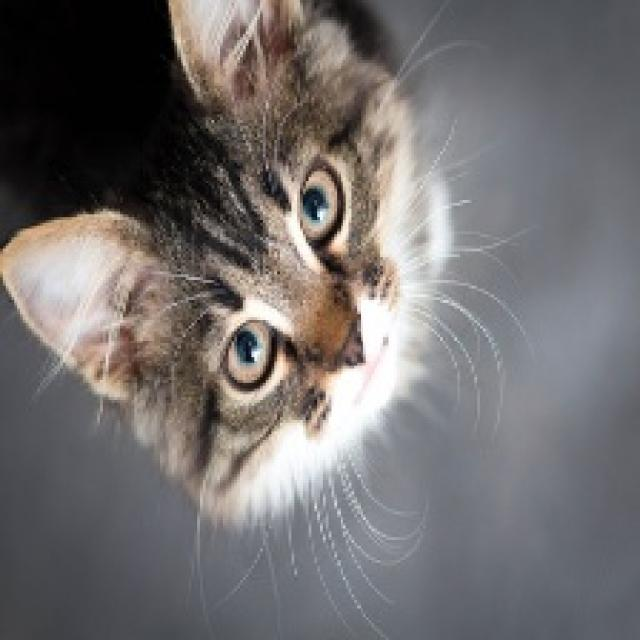bear: (25, 0, 492, 517)
